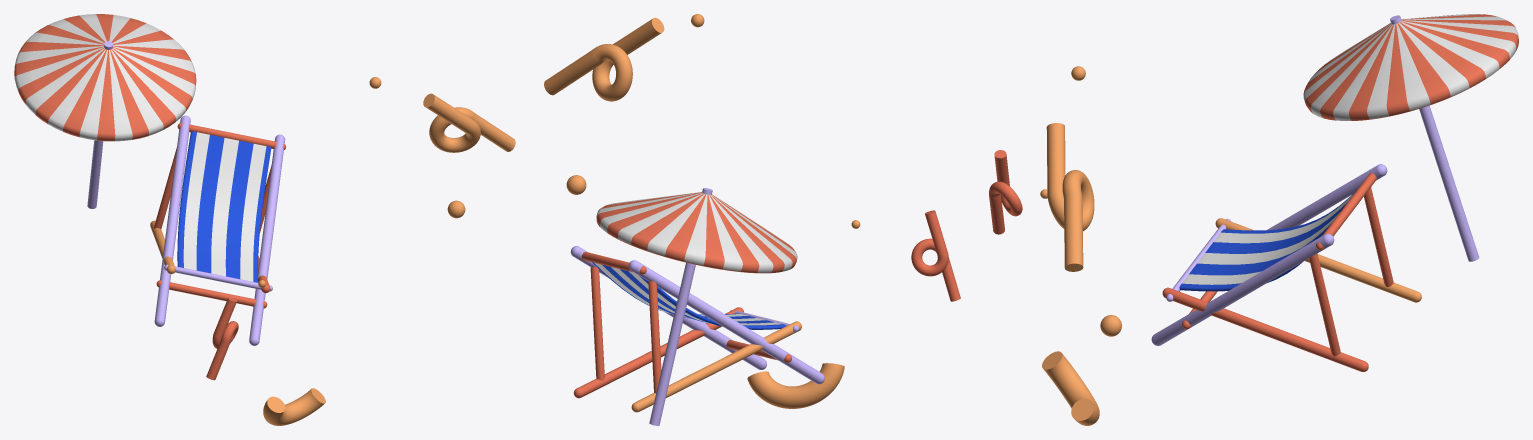
Rendered from beach.glb.
3 renders of one model, left to right at view 1: azimuth 30°, elevation 25°; view 2: azimuth 150°, elevation 25°; view 3: azimuth 270°, elevation 25°, orthographic. The views are drawn at different scales.
Visible parts, largest first — view 1: Circle.003, Plane, Spiral.008, Sphere.002, Sphere.001, NurbsPath.016, Spiral.009, Cylinder.004, Sphere.003, Sphere.004, Sphere.009, Sphere.008; view 2: Circle.003, Spiral.008, Sphere.002, NurbsPath.016, Plane, Cylinder.004, Sphere.006, Spiral.009, Sphere.005, Sphere.001, Sphere.007, Sphere.008 (+1 smaller); view 3: Circle.003, Plane, Spiral.008, Sphere.001, Sphere.005, NurbsPath.016, Cylinder.004, Spiral.009, Sphere.006, Sphere.002, Sphere.007, Sphere.008 (+1 smaller).
Boxes of the visible parts, x1=… form: Circle.003: x1=14, y1=14, x2=196, y2=141; Plane: x1=177, y1=131, x2=271, y2=282; Spiral.008: x1=423, y1=93, x2=515, y2=152; Sphere.002: x1=154, y1=115, x2=190, y2=326; Sphere.001: x1=249, y1=134, x2=285, y2=345; NurbsPath.016: x1=263, y1=388, x2=325, y2=425; Spiral.009: x1=206, y1=297, x2=238, y2=380; Cylinder.004: x1=87, y1=41, x2=112, y2=208; Sphere.003: x1=156, y1=280, x2=267, y2=308; Sphere.004: x1=177, y1=123, x2=286, y2=149; Sphere.009: x1=164, y1=264, x2=272, y2=291; Sphere.008: x1=153, y1=147, x2=176, y2=229; Circle.003: x1=596, y1=192, x2=797, y2=273; Spiral.008: x1=544, y1=17, x2=664, y2=101; Sphere.002: x1=628, y1=260, x2=824, y2=384; NurbsPath.016: x1=747, y1=363, x2=844, y2=408; Plane: x1=592, y1=262, x2=785, y2=329; Cylinder.004: x1=649, y1=188, x2=712, y2=425; Sphere.006: x1=631, y1=321, x2=801, y2=412; Spiral.009: x1=911, y1=210, x2=960, y2=301; Sphere.005: x1=573, y1=307, x2=743, y2=398; Sphere.001: x1=570, y1=246, x2=766, y2=369; Sphere.007: x1=590, y1=267, x2=604, y2=380; Sphere.008: x1=648, y1=281, x2=661, y2=393; Circle.003: x1=1303, y1=14, x2=1518, y2=120; Plane: x1=1179, y1=191, x2=1355, y2=291; Spiral.008: x1=1046, y1=123, x2=1094, y2=271; Sphere.001: x1=1151, y1=233, x2=1334, y2=345; Sphere.005: x1=1162, y1=287, x2=1368, y2=371; NurbsPath.016: x1=1042, y1=351, x2=1099, y2=425; Cylinder.004: x1=1390, y1=15, x2=1479, y2=261; Spiral.009: x1=989, y1=150, x2=1022, y2=234; Sphere.006: x1=1215, y1=218, x2=1421, y2=302; Sphere.002: x1=1267, y1=164, x2=1387, y2=230; Sphere.007: x1=1309, y1=253, x2=1340, y2=356; Sphere.008: x1=1364, y1=187, x2=1393, y2=286.
Bounding box in the file's own units: 9.34 × 8.33 × 9.96.
